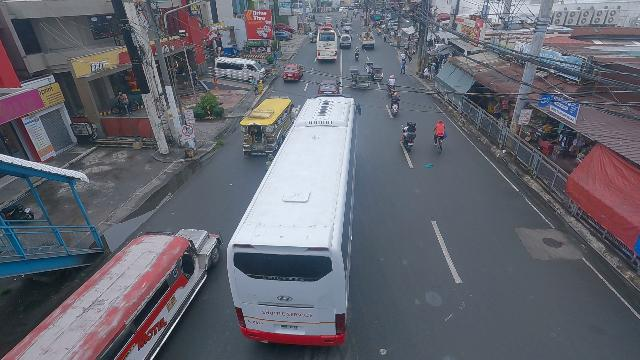bus: (228, 95, 361, 344), (315, 26, 338, 62)
car: (283, 63, 304, 82), (318, 77, 340, 95), (339, 33, 352, 49), (341, 23, 353, 33), (325, 21, 333, 27)
jeepney: (0, 224, 220, 360), (236, 96, 299, 159)
motorcycle: (399, 122, 417, 152), (390, 93, 401, 116), (387, 76, 397, 94), (354, 49, 360, 60)
truck: (361, 31, 376, 50)
